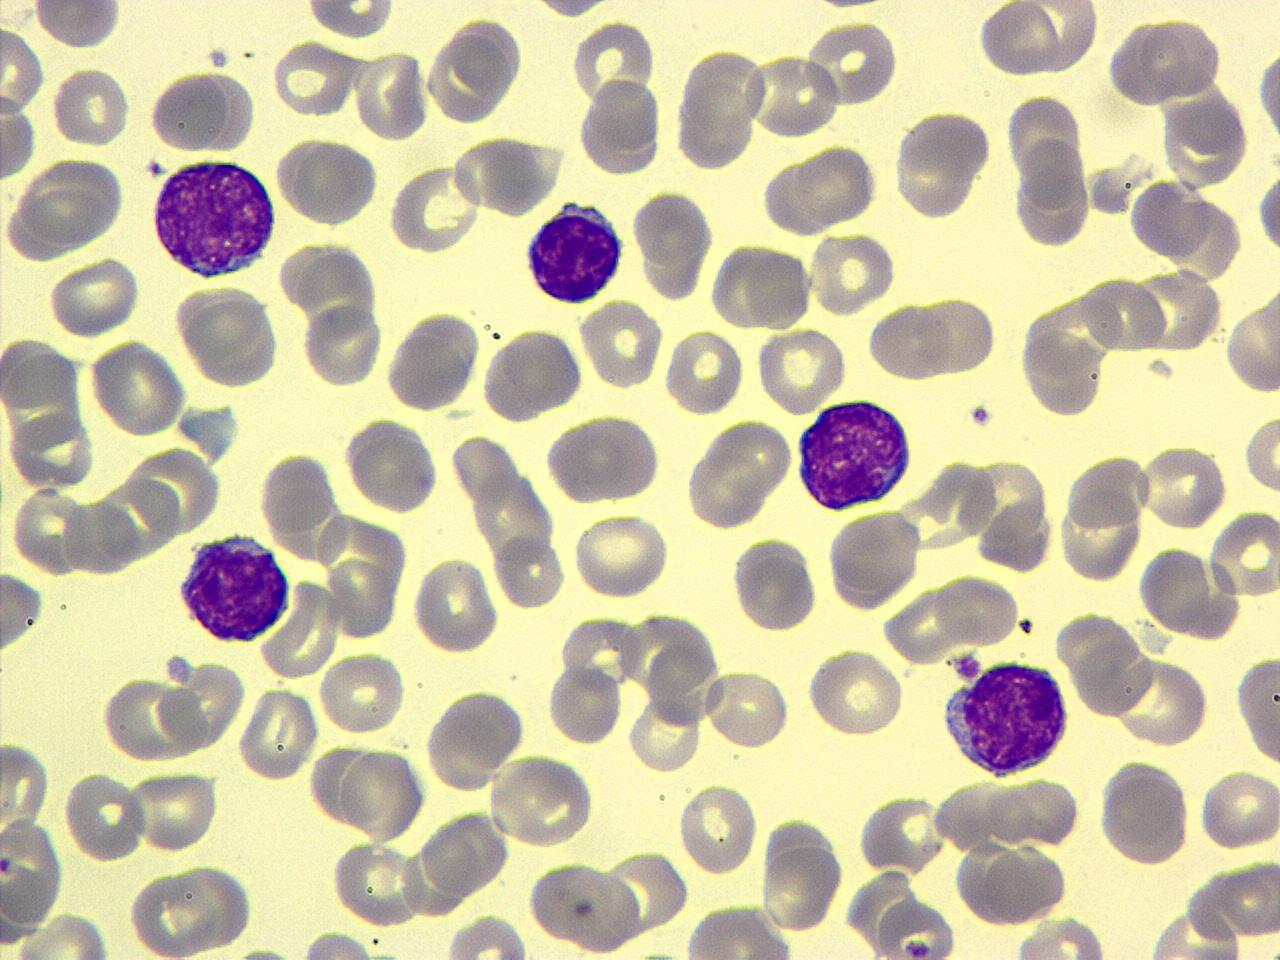RBC: (125, 862, 258, 958), (684, 415, 796, 529), (891, 106, 992, 222), (545, 410, 665, 506), (673, 45, 762, 173), (422, 686, 530, 790), (526, 858, 642, 954), (478, 323, 586, 422), (490, 751, 597, 850), (1097, 758, 1193, 868), (384, 308, 483, 413), (340, 414, 442, 514), (87, 337, 188, 437), (824, 509, 923, 611), (805, 644, 908, 740), (632, 186, 716, 303), (708, 239, 810, 333), (185, 293, 282, 389), (1114, 654, 1210, 750), (323, 534, 406, 644), (729, 534, 820, 634), (258, 576, 342, 684), (412, 552, 500, 655), (572, 510, 672, 600), (450, 131, 554, 217), (388, 161, 482, 256), (576, 77, 663, 179), (337, 745, 427, 843), (0, 812, 69, 938), (806, 16, 898, 110), (286, 136, 380, 228), (758, 834, 846, 932), (755, 325, 849, 416), (1057, 486, 1143, 584), (748, 51, 840, 142), (331, 836, 422, 928), (1138, 441, 1230, 532), (972, 841, 1070, 926), (237, 685, 320, 785), (316, 646, 408, 736), (45, 254, 143, 338), (578, 296, 665, 390), (129, 766, 221, 854), (569, 18, 658, 108), (1012, 152, 1094, 249), (807, 230, 898, 317), (1137, 13, 1223, 105), (62, 768, 146, 862), (677, 780, 757, 877), (702, 666, 792, 751), (794, 141, 880, 227), (1080, 271, 1168, 355), (983, 774, 1081, 849), (270, 37, 360, 118), (666, 326, 745, 418), (302, 302, 384, 390), (353, 48, 428, 143), (934, 572, 1022, 652), (21, 177, 119, 248), (1208, 507, 1280, 602), (917, 293, 998, 377), (50, 63, 130, 148), (1198, 768, 1278, 852), (546, 661, 624, 747), (626, 692, 705, 776), (868, 301, 952, 380), (149, 69, 227, 154), (682, 900, 796, 958), (979, 0, 1060, 80), (446, 15, 522, 100), (1016, 0, 1100, 74), (1224, 292, 1280, 395), (494, 531, 566, 611), (1232, 649, 1280, 769), (1014, 132, 1087, 210), (870, 896, 958, 959), (1140, 907, 1246, 959), (8, 910, 117, 958), (1222, 856, 1280, 940), (1009, 912, 1113, 958), (31, 0, 124, 51), (0, 22, 47, 117), (438, 912, 534, 958), (0, 567, 47, 657), (303, 0, 398, 41), (0, 90, 38, 182), (1243, 409, 1279, 499), (296, 927, 389, 960)
WBC: (149, 152, 281, 282), (940, 654, 1077, 779), (791, 395, 917, 514), (176, 528, 295, 644), (522, 196, 630, 307)
